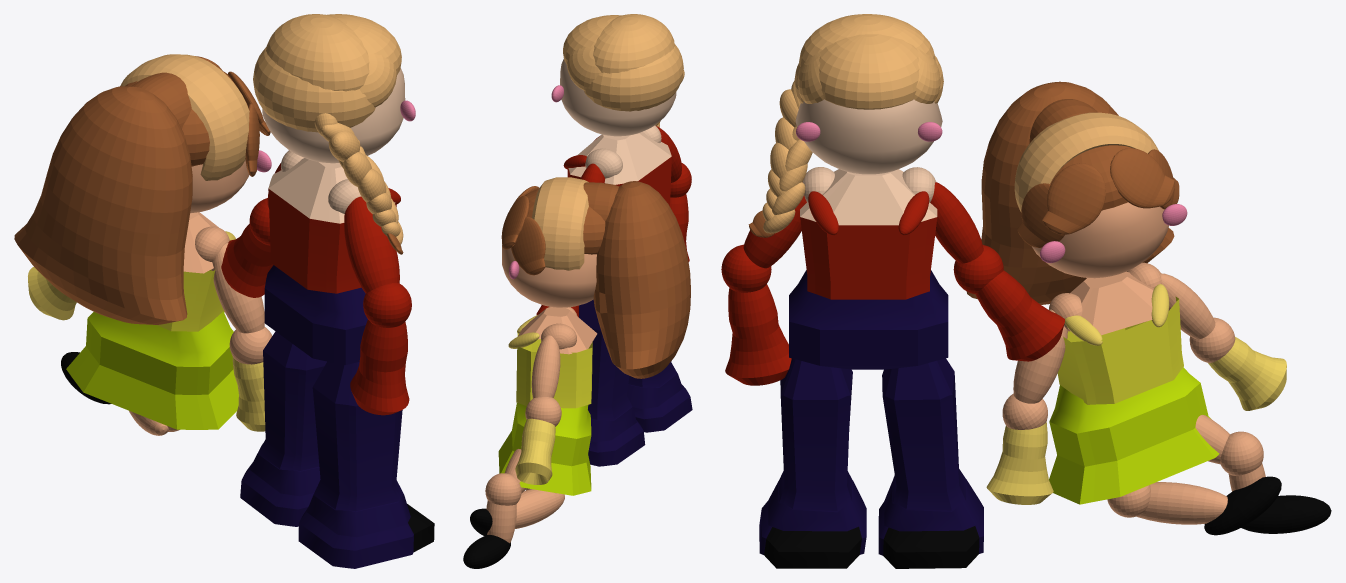
Rendered from two of the crowd.fbx.
3 views of the same model, side by side, from view 1: azimuth 30°, elevation 25°; view 2: azimuth 150°, elevation 25°; view 3: azimuth 270°, elevation 25° (orthographic). The views are drawn at different scales.
Parts seen in each view (by area): view 1: Sphere.021, Cube.003, trousers.001, Cube.009, trousers, Torus.006, Sphere.055, Cube.001, Sphere.056, Sphere.006, Sphere, Sphere.013 (+23 smaller); view 2: Sphere.021, Cube.009, trousers.001, Torus.006, Sphere.056, Sphere.055, Sphere.010, Sphere, Cube.003, Cube.013, Cube.006, Sphere.015 (+22 smaller); view 3: trousers.001, Cube.009, Cube.003, trousers, Sphere.021, Cube.001, Cube.013, Sphere, Sphere.057, Sphere.019, Sphere.010, Torus.006 (+33 smaller).
Part boxes in pixels (<box>): Sphere.021: <box>14,86,192,324</box>; Cube.003: <box>298,361,413,568</box>; trousers.001: <box>66,311,238,429</box>; Cube.009: <box>240,331,326,526</box>; trousers: <box>264,265,367,365</box>; Torus.006: <box>120,54,249,180</box>; Sphere.055: <box>266,14,369,91</box>; Cube.001: <box>268,188,396,293</box>; Sphere.056: <box>253,47,375,132</box>; Sphere.006: <box>350,320,409,415</box>; Sphere: <box>262,68,405,163</box>; Sphere.013: <box>344,196,399,293</box>; Sphere.021: <box>593,181,690,378</box>; Cube.009: <box>579,299,645,466</box>; trousers.001: <box>498,403,591,495</box>; Torus.006: <box>532,177,588,270</box>; Sphere.056: <box>584,44,683,111</box>; Sphere.055: <box>593,14,674,73</box>; Sphere.010: <box>502,244,596,307</box>; Sphere: <box>560,59,676,136</box>; Cube.003: <box>627,361,692,432</box>; Cube.013: <box>516,331,592,408</box>; Cube.006: <box>577,132,671,184</box>; Sphere.015: <box>515,418,555,484</box>; trousers.001: <box>1049,367,1219,504</box>; Cube.009: <box>878,358,983,555</box>; Cube.003: <box>759,358,866,554</box>; trousers: <box>789,270,948,369</box>; Sphere.021: <box>966,81,1174,304</box>; Cube.001: <box>800,216,937,299</box>; Cube.013: <box>1057,296,1183,404</box>; Sphere: <box>795,99,942,174</box>; Sphere.057: <box>819,34,919,109</box>; Sphere.019: <box>1042,148,1174,234</box>; Sphere.010: <box>1032,202,1168,278</box>; Torus.006: <box>1014,112,1158,212</box>.
Size of the model in its own units: 358 by 716 by 753.
